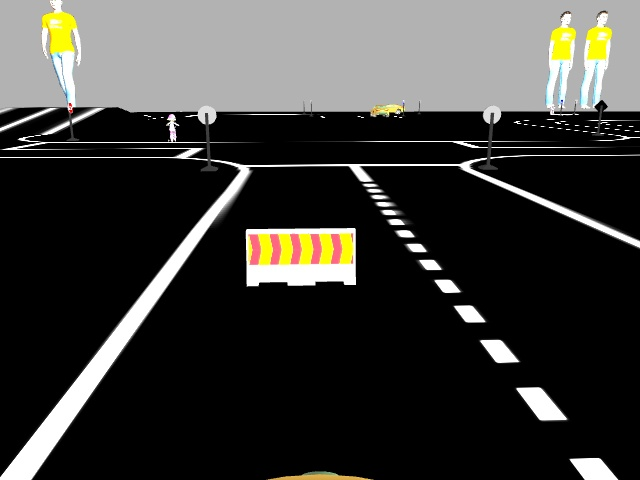ClosedRoadStand: (247, 228, 356, 284)
